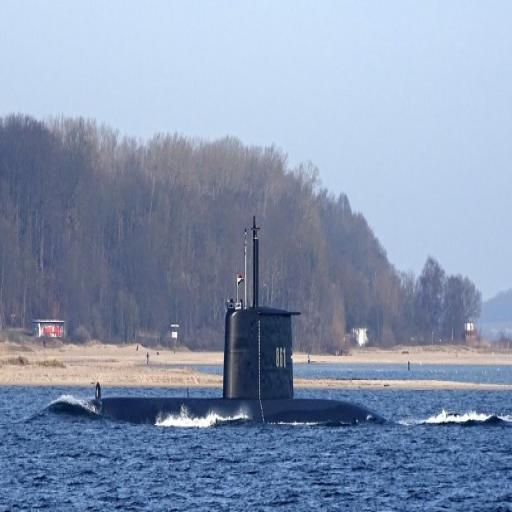submarine: (97, 307, 401, 424)
